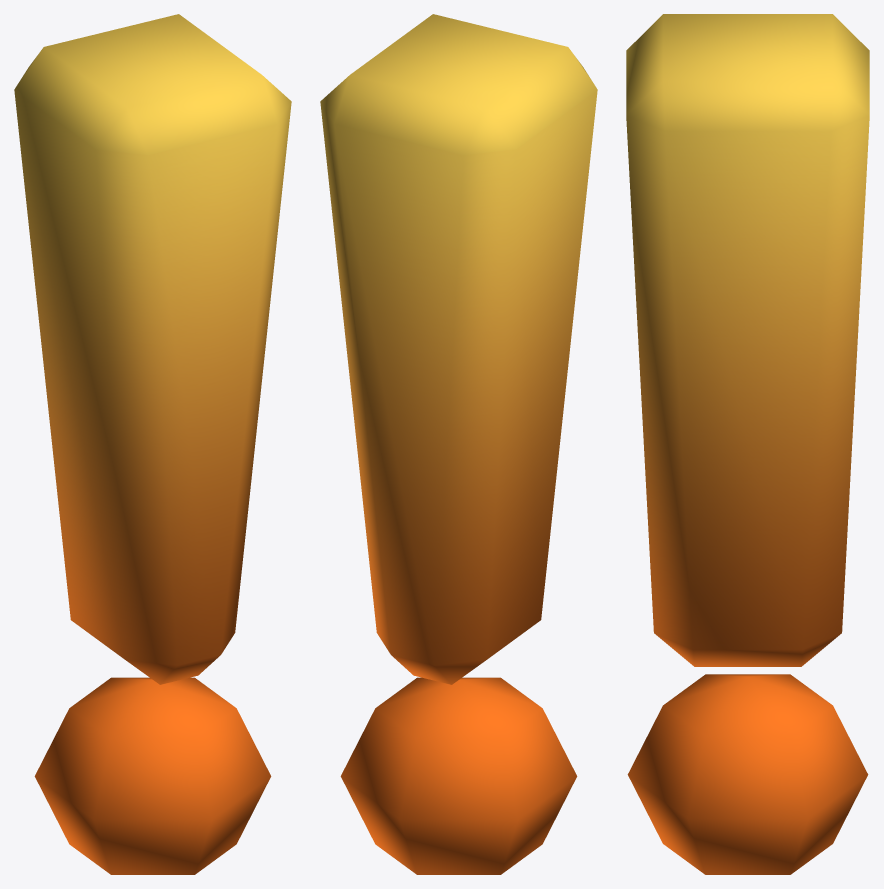
File: Alarm_sign.fbx
The picture shows the model from 3 angles, left to right: view 1: azimuth 30°, elevation 25°; view 2: azimuth 150°, elevation 25°; view 3: azimuth 270°, elevation 25°; orthographic projection.
Visible parts, largest first — view 1: Alarm_sign; view 2: Alarm_sign; view 3: Alarm_sign.
Part boxes in pixels (x1,y1,x2,y2): Alarm_sign: (14,14,291,874); Alarm_sign: (320,14,597,874); Alarm_sign: (626,14,869,874).
Size of the model in its own units: 33.91 by 134 by 35.93.
